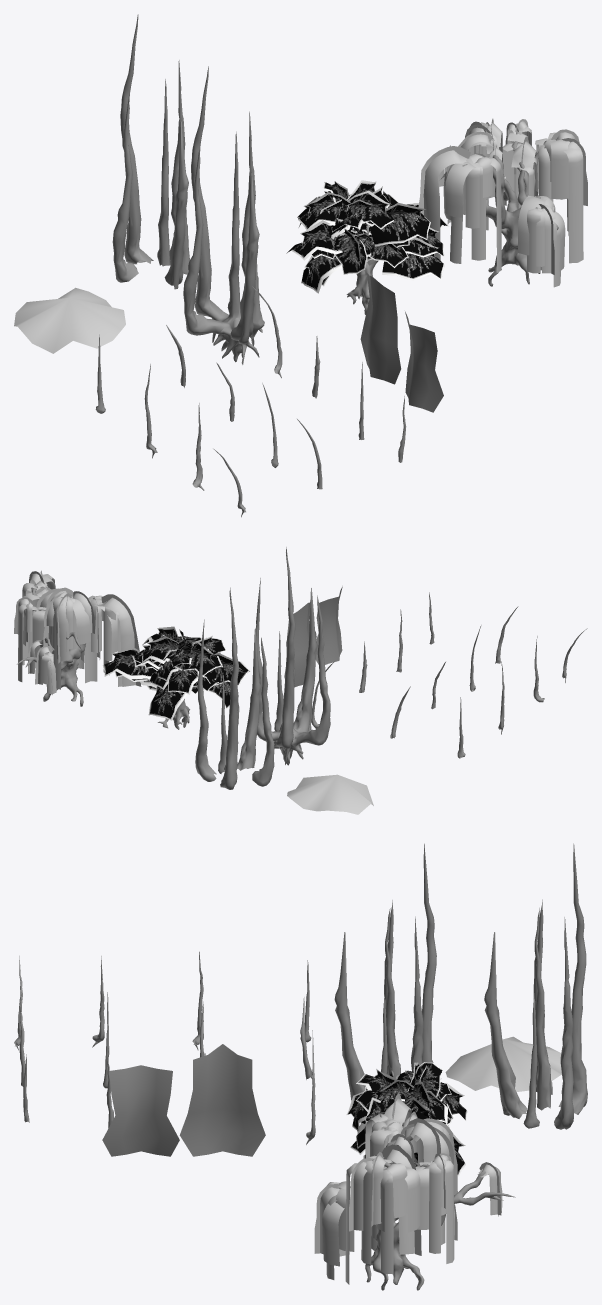
The model's file is Trees.FBX.
3 renders of one model, top to bottom at view 1: azimuth 30°, elevation 25°; view 2: azimuth 150°, elevation 25°; view 3: azimuth 270°, elevation 25°, orthographic. The views are drawn at different scales.
Visible parts, largest first — view 1: Leaves, ETP_Tree_3_00, ETP_Tree3_BranchesLOD, Leaves00, ETP_Tree_2_00, LeavesB00, ETP_Tree_3_04, ETP_Tree_3_03, TreeLeavesBranch12, ETP_Tree_3_02, ETP_Tree_3_01, TreeLeavesBranch26 (+8 smaller); view 2: Leaves, ETP_Tree_3_00, ETP_Tree3_BranchesLOD, ETP_Tree_3_04, ETP_Tree_3_02, LeavesB00, ETP_Tree_2_00, ETP_Tree_3_05, ETP_Tree_3_03, Leaves00, TreeLeavesBranch13, TreeLeavesBranch01 (+6 smaller); view 3: Leaves, Leaves00, ETP_Tree_3_00, LeavesB00, ETP_Tree3_BranchesLOD, ETP_Tree_3_04, ETP_Tree_3_02, ETP_Tree_2_00, ETP_Tree_3_05, ETP_Tree_3_01, TreeLeavesBranch25, ETP_Tree_3_06 (+3 smaller).
Part boxes in pixels (left/top/right/bottom): Leaves: left=418, top=118, right=587, bottom=287; ETP_Tree_3_00: left=183, top=66, right=264, bottom=364; ETP_Tree3_BranchesLOD: left=14, top=287, right=125, bottom=353; Leaves00: left=360, top=273, right=401, bottom=384; ETP_Tree_2_00: left=440, top=125, right=558, bottom=286; LeavesB00: left=405, top=311, right=443, bottom=412; ETP_Tree_3_04: left=120, top=14, right=153, bottom=264; ETP_Tree_3_03: left=112, top=96, right=138, bottom=282; TreeLeavesBranch12: left=370, top=202, right=430, bottom=246; ETP_Tree_3_02: left=164, top=121, right=188, bottom=289; ETP_Tree_3_01: left=157, top=79, right=170, bottom=266; TreeLeavesBranch26: left=382, top=237, right=444, bottom=280; Leaves: left=14, top=570, right=141, bottom=694; ETP_Tree_3_00: left=255, top=547, right=330, bottom=765; ETP_Tree3_BranchesLOD: left=287, top=774, right=373, bottom=814; ETP_Tree_3_04: left=220, top=587, right=238, bottom=789; ETP_Tree_3_02: left=237, top=629, right=261, bottom=770; LeavesB00: left=315, top=586, right=342, bottom=664; ETP_Tree_2_00: left=16, top=580, right=85, bottom=706; ETP_Tree_3_05: left=195, top=619, right=216, bottom=781; ETP_Tree_3_03: left=252, top=637, right=274, bottom=786; Leaves00: left=284, top=602, right=316, bottom=687; TreeLeavesBranch13: left=103, top=647, right=156, bottom=681; TreeLeavesBranch01: left=148, top=684, right=187, bottom=720; Leaves: left=314, top=1093, right=502, bottom=1284; Leaves00: left=179, top=1044, right=265, bottom=1156; ETP_Tree_3_00: left=334, top=843, right=436, bottom=1134; LeavesB00: left=102, top=1065, right=179, bottom=1156; ETP_Tree3_BranchesLOD: left=445, top=1036, right=561, bottom=1091; ETP_Tree_3_04: left=558, top=843, right=587, bottom=1114; ETP_Tree_3_02: left=484, top=932, right=527, bottom=1118; ETP_Tree_2_00: left=339, top=1114, right=515, bottom=1290; ETP_Tree_3_05: left=554, top=917, right=573, bottom=1129; ETP_Tree_3_01: left=534, top=908, right=550, bottom=1110; TreeLeavesBranch25: left=402, top=1082, right=447, bottom=1122; ETP_Tree_3_06: left=523, top=992, right=539, bottom=1128.
Size of what is drawn, in the model's own units: 157 by 80.57 by 137.
